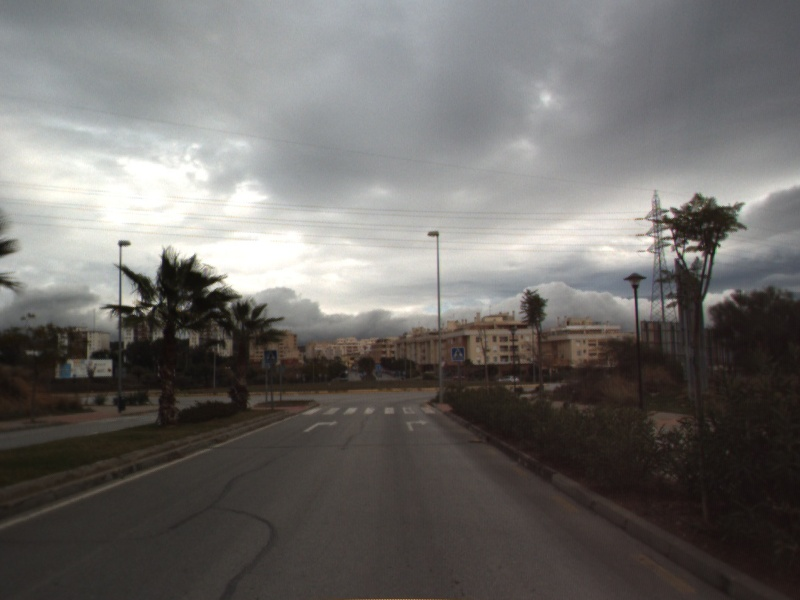RIGHT: (302, 418, 340, 434), (404, 417, 430, 433)
